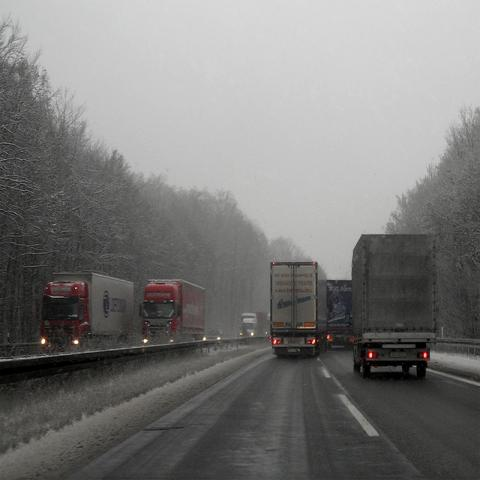car: (203, 328, 226, 340)
truck: (352, 232, 436, 377), (38, 273, 135, 348), (270, 260, 330, 358), (138, 279, 207, 341), (327, 280, 354, 351), (240, 312, 268, 337)
